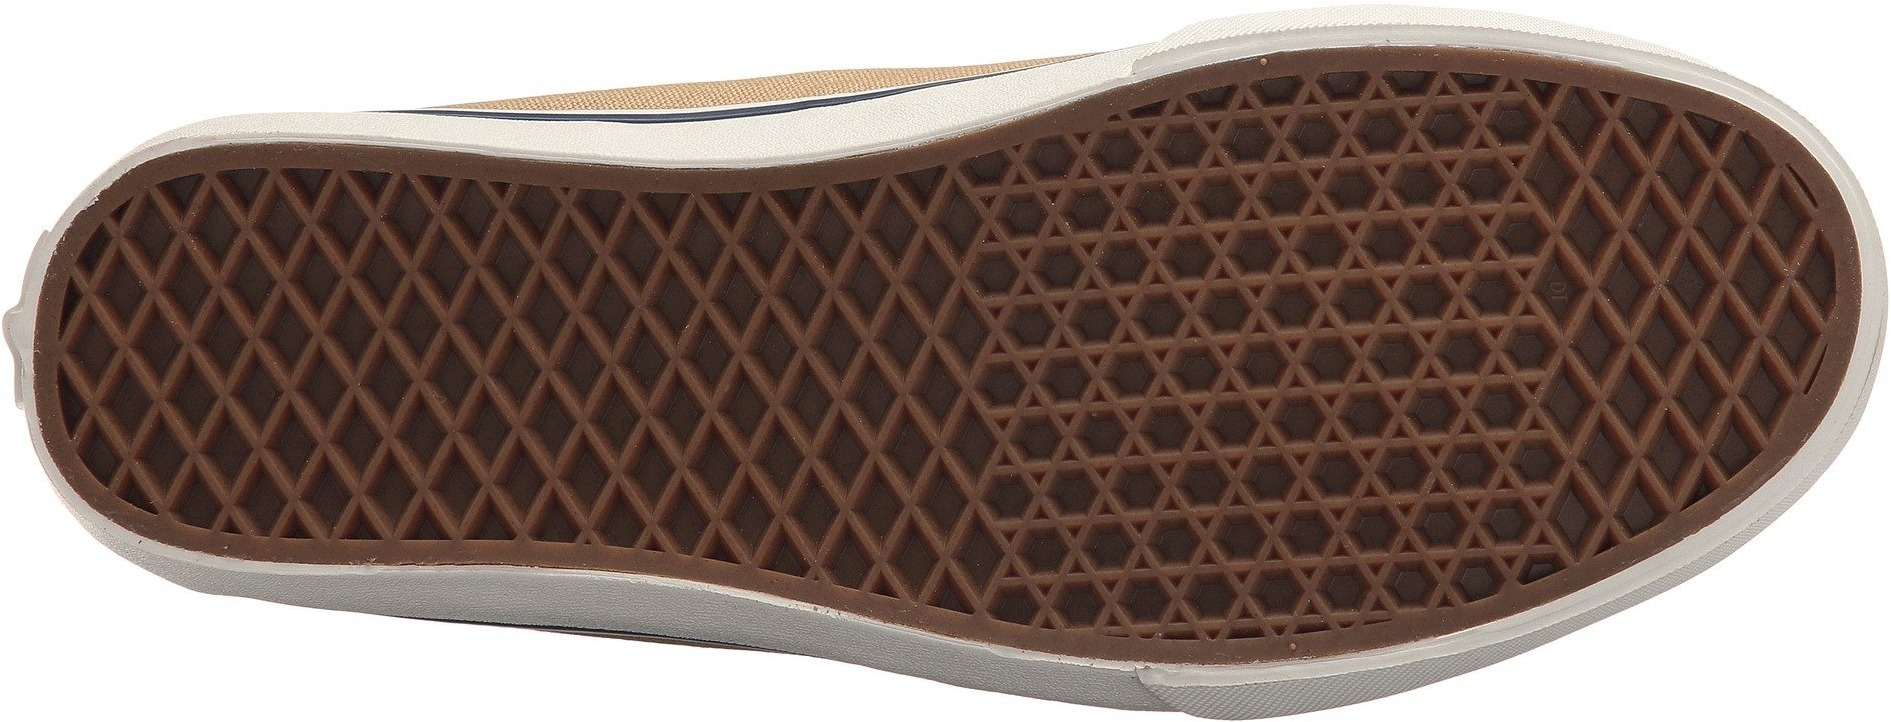polygon: (1210, 90, 1460, 356), (1018, 364, 1280, 612), (1295, 362, 1536, 595), (1008, 149, 1192, 344)
quad: (560, 187, 802, 422), (327, 186, 556, 417), (1532, 115, 1741, 358), (86, 234, 323, 444), (808, 351, 980, 521), (808, 184, 988, 345), (1555, 364, 1705, 512), (403, 428, 529, 535)
triangle: (1210, 90, 1460, 356), (1018, 364, 1280, 612), (1295, 362, 1536, 595), (1008, 149, 1192, 344)
